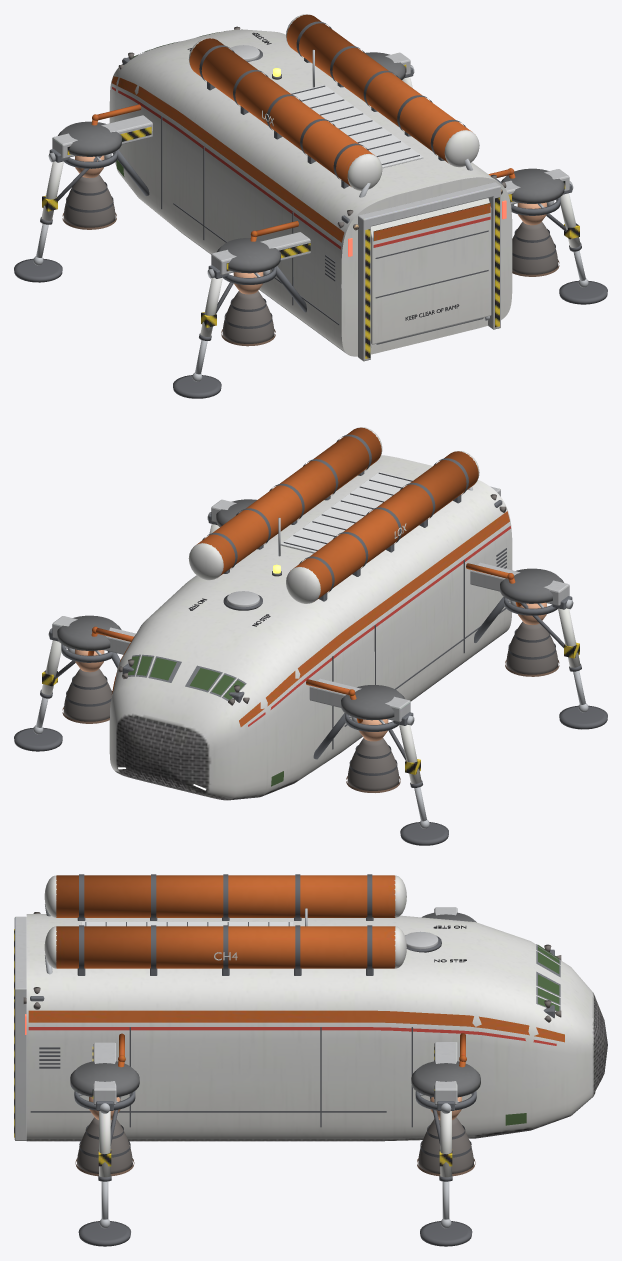
The model's file is dropship_prewarp_c.glb.
3 renders of one model, top to bottom at view 1: azimuth 30°, elevation 25°; view 2: azimuth 150°, elevation 25°; view 3: azimuth 270°, elevation 25°, orthographic. The views are drawn at different scales.
Parts seen in each view (by area): view 1: Body, RampBody, Leg0Body, Leg2Body, Leg3Body, Foot0Body, Foot2Body, Foot3Body; view 2: Body, Leg2Body, Leg0Body, Leg1Body, Foot2Body, Foot0Body, Foot1Body; view 3: Body, Leg1Body, Leg3Body, Foot1Body, Foot3Body.
Boxes of the visible parts, left/top/right/bottom form: Body: left=52, top=14, right=569, bottom=361; RampBody: left=371, top=198, right=491, bottom=344; Leg0Body: left=36, top=149, right=101, bottom=257; Leg2Body: left=195, top=265, right=233, bottom=374; Leg3Body: left=546, top=181, right=585, bottom=280; Foot0Body: left=14, top=256, right=62, bottom=282; Foot2Body: left=173, top=372, right=221, bottom=398; Foot3Body: left=559, top=278, right=607, bottom=304; Body: left=52, top=427, right=569, bottom=800; Leg2Body: left=520, top=596, right=585, bottom=704; Leg0Body: left=388, top=712, right=426, bottom=821; Leg1Body: left=36, top=628, right=75, bottom=727; Foot2Body: left=559, top=703, right=607, bottom=729; Foot0Body: left=400, top=819, right=448, bottom=845; Foot1Body: left=14, top=725, right=62, bottom=751; Body: left=14, top=874, right=607, bottom=1176; Leg1Body: left=430, top=1096, right=454, bottom=1219; Leg3Body: left=96, top=1096, right=120, bottom=1219; Foot1Body: left=420, top=1219, right=472, bottom=1246; Foot3Body: left=78, top=1219, right=130, bottom=1246.
Size of the model in its own units: 12.54 by 6.2 by 14.02.
32 materials, 7 textured.
